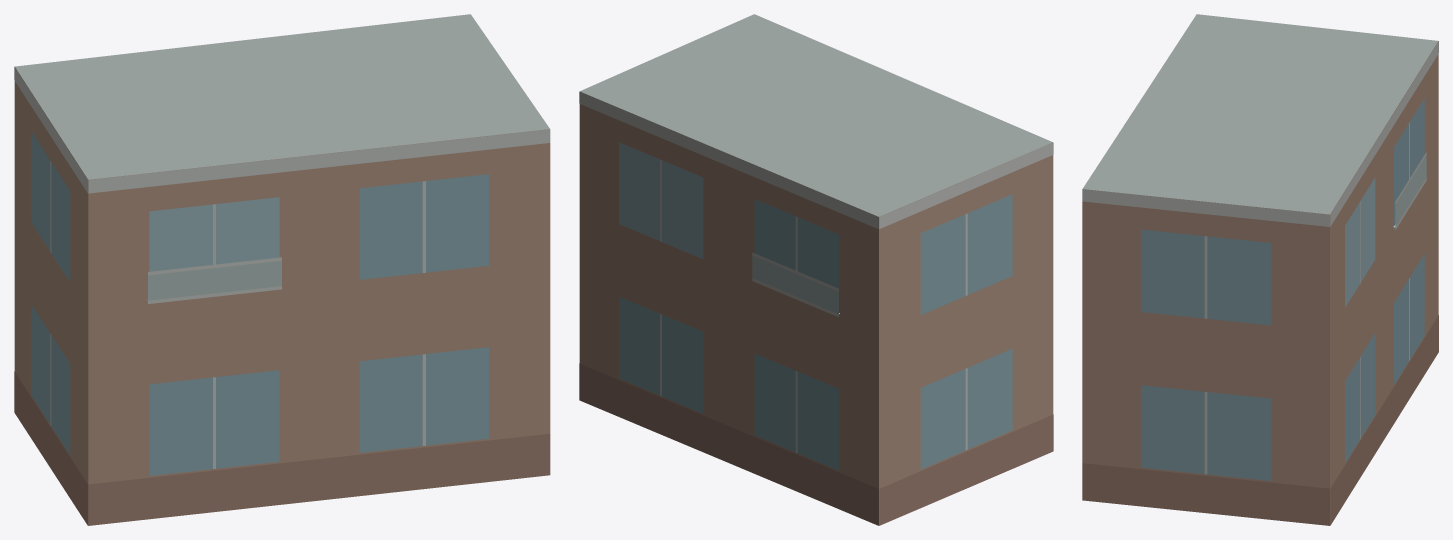
Rendered from survey-upis-32871394.glb.
3 views of the same model, side by side, from view 1: azimuth 30°, elevation 25°; view 2: azimuth 150°, elevation 25°; view 3: azimuth 270°, elevation 25° (orthographic). The views are drawn at different scales.
Parts seen in each view (by area): view 1: survey-upis-32871394.tmp; view 2: survey-upis-32871394.tmp; view 3: survey-upis-32871394.tmp.
Part boxes in pixels (bbox=[...]): survey-upis-32871394.tmp: bbox=[14, 14, 550, 525]; survey-upis-32871394.tmp: bbox=[579, 14, 1053, 525]; survey-upis-32871394.tmp: bbox=[1082, 14, 1438, 525].
Size of the model in its own units: 8.44 by 6.1 by 6.34.
